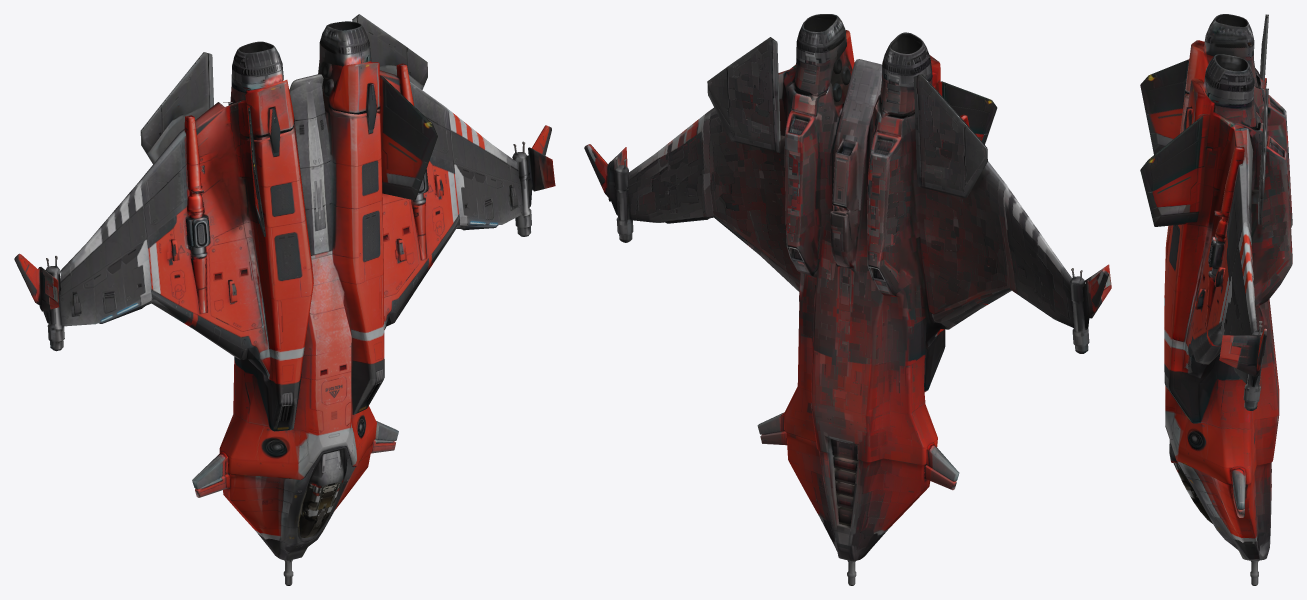
The model's file is gladius.glb.
3 renders of one model, left to right at view 1: azimuth 30°, elevation 25°; view 2: azimuth 150°, elevation 25°; view 3: azimuth 270°, elevation 25°, orthographic. The views are drawn at different scales.
Visible parts, largest first — view 1: tripo_7c200c4b_87ab_4001_ad05_93b270bc8ff9; view 2: tripo_7c200c4b_87ab_4001_ad05_93b270bc8ff9; view 3: tripo_7c200c4b_87ab_4001_ad05_93b270bc8ff9.
Part boxes in pixels (box(x1,y1,x2,y2)): tripo_7c200c4b_87ab_4001_ad05_93b270bc8ff9: box(14, 14, 555, 585); tripo_7c200c4b_87ab_4001_ad05_93b270bc8ff9: box(584, 14, 1111, 585); tripo_7c200c4b_87ab_4001_ad05_93b270bc8ff9: box(1140, 14, 1292, 585).
Bounding box in the file's own units: 0.9995 × 0.9976 × 0.2524.
1 material, 1 textured.
